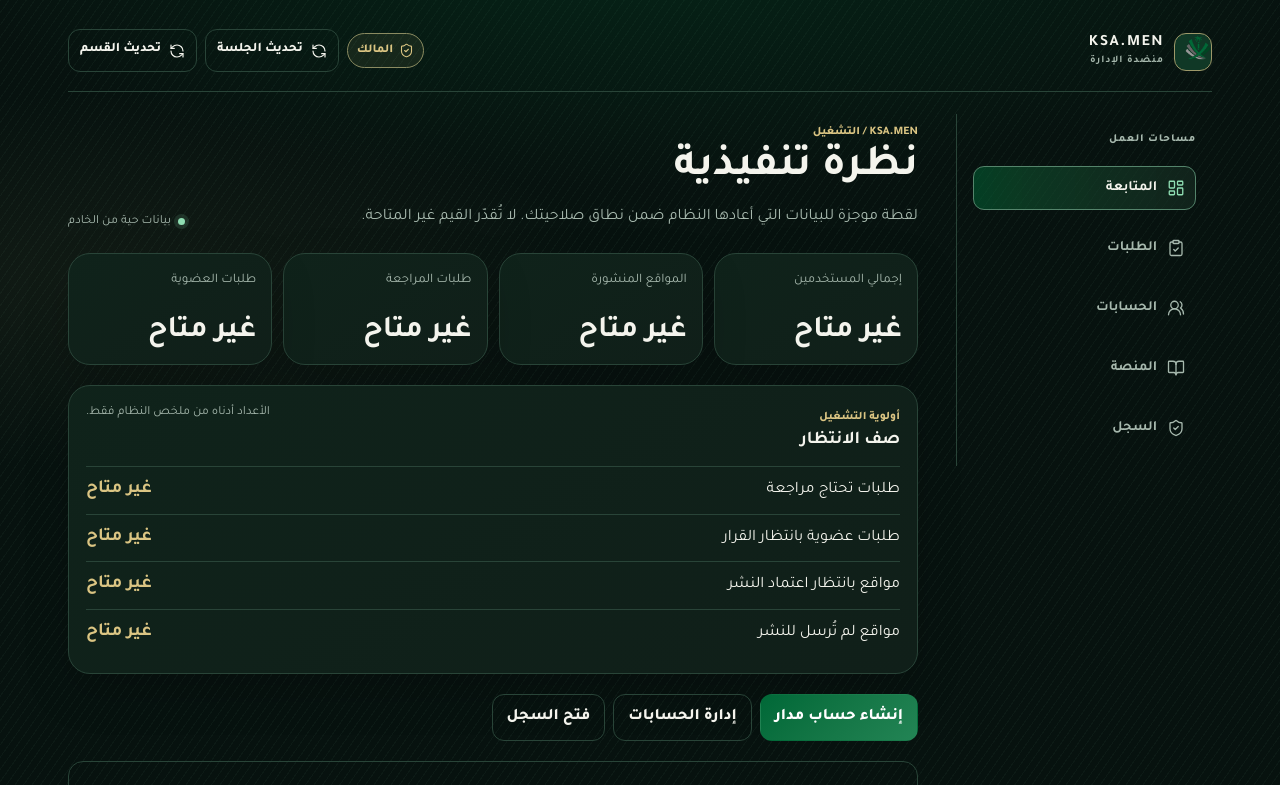
focused administrator workspace — local DOM/mock API only › opens users directly in accounts and leaves advanced forms collapsed
This screenshot has width=1280, height=785.
Later steps or results of the test are not shown.
Click the button "الحسابات": (1084, 308) [973,286,1196,330]
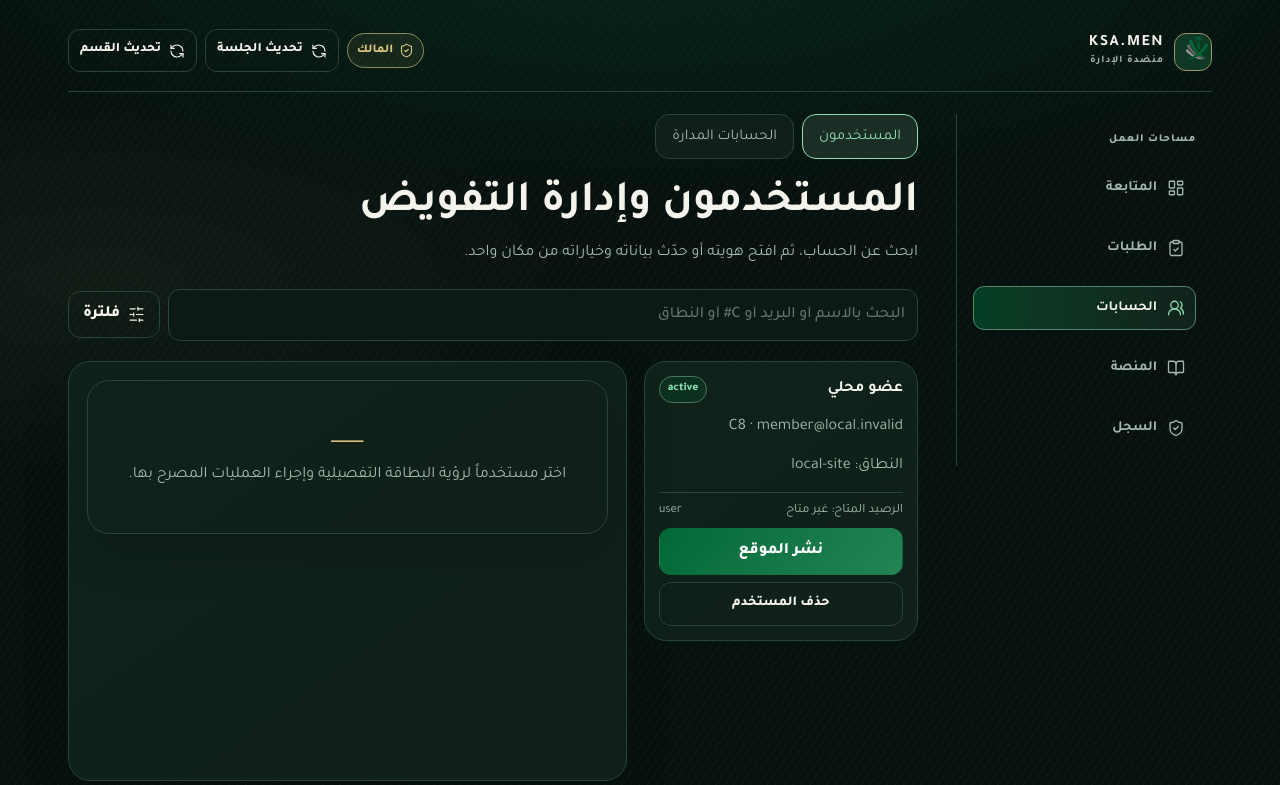
Expected: the button with aria-label "فتح بطاقة عضو محلي" is shown
Click the button with aria-label "فتح بطاقة عضو محلي": (781, 448) [659,376,903,521]
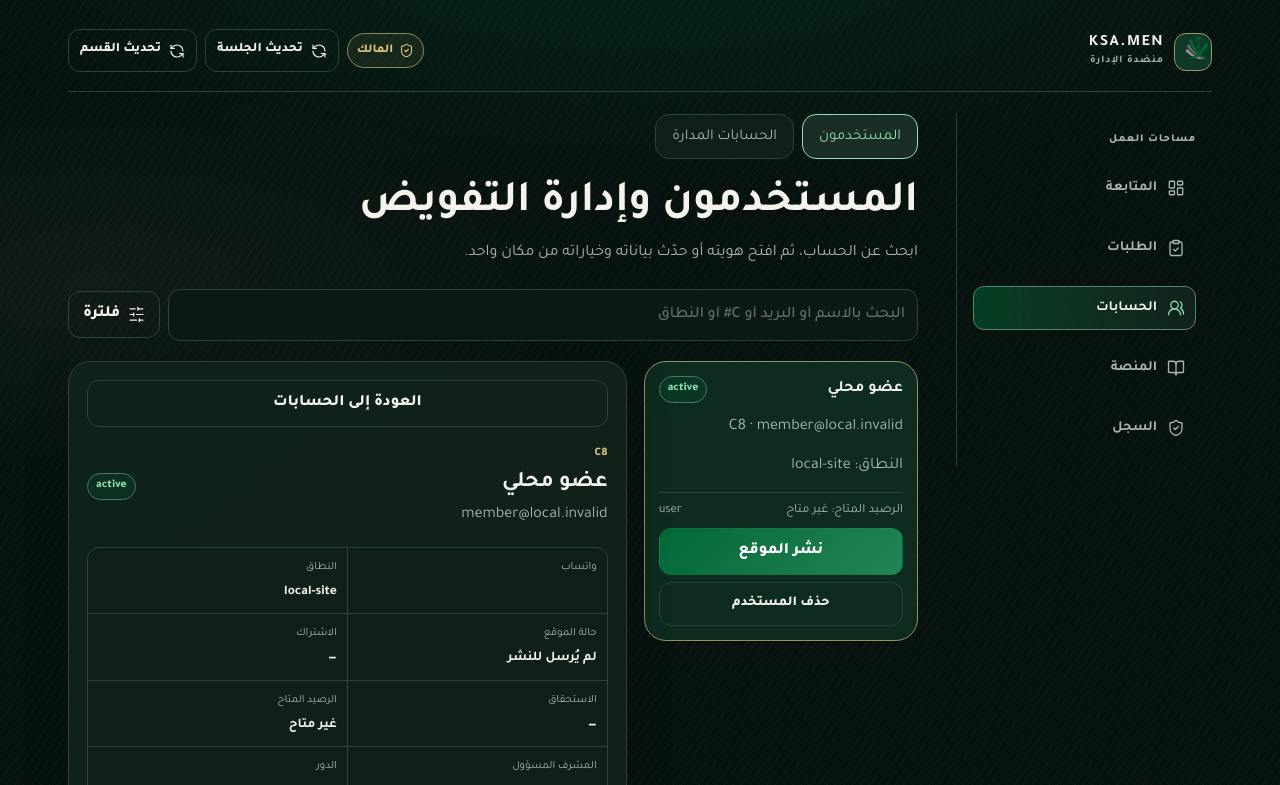
Expected: the button "العودة إلى الحسابات" is shown, [87,380,608,427]
